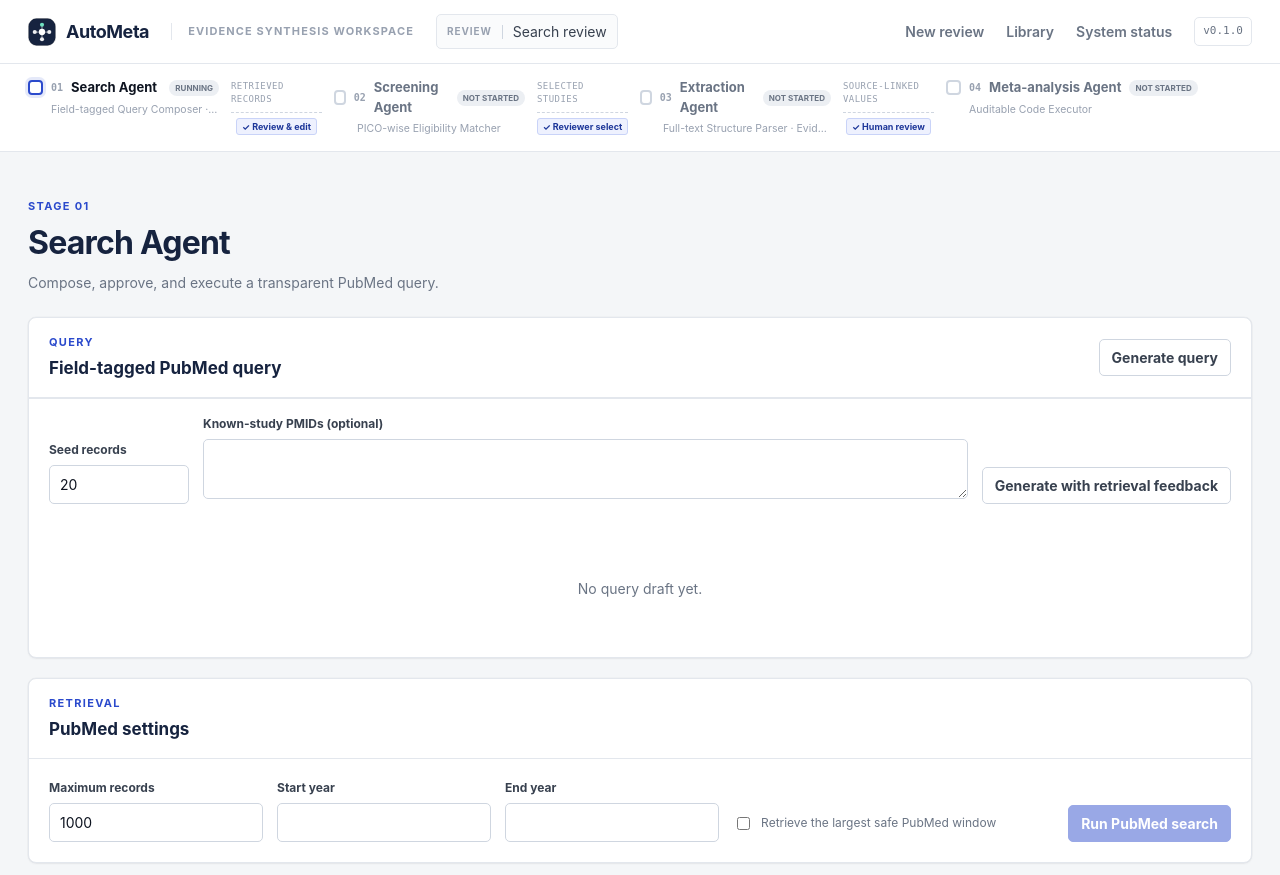
Scenario: SearchPage › starts query generation as a persistent Search job
This screenshot has width=1280, height=875.
Step 1. Click the button "Generate query" → click(1165, 358), box top-left (1099, 339), bottom-right (1231, 376)
(page scrolled)
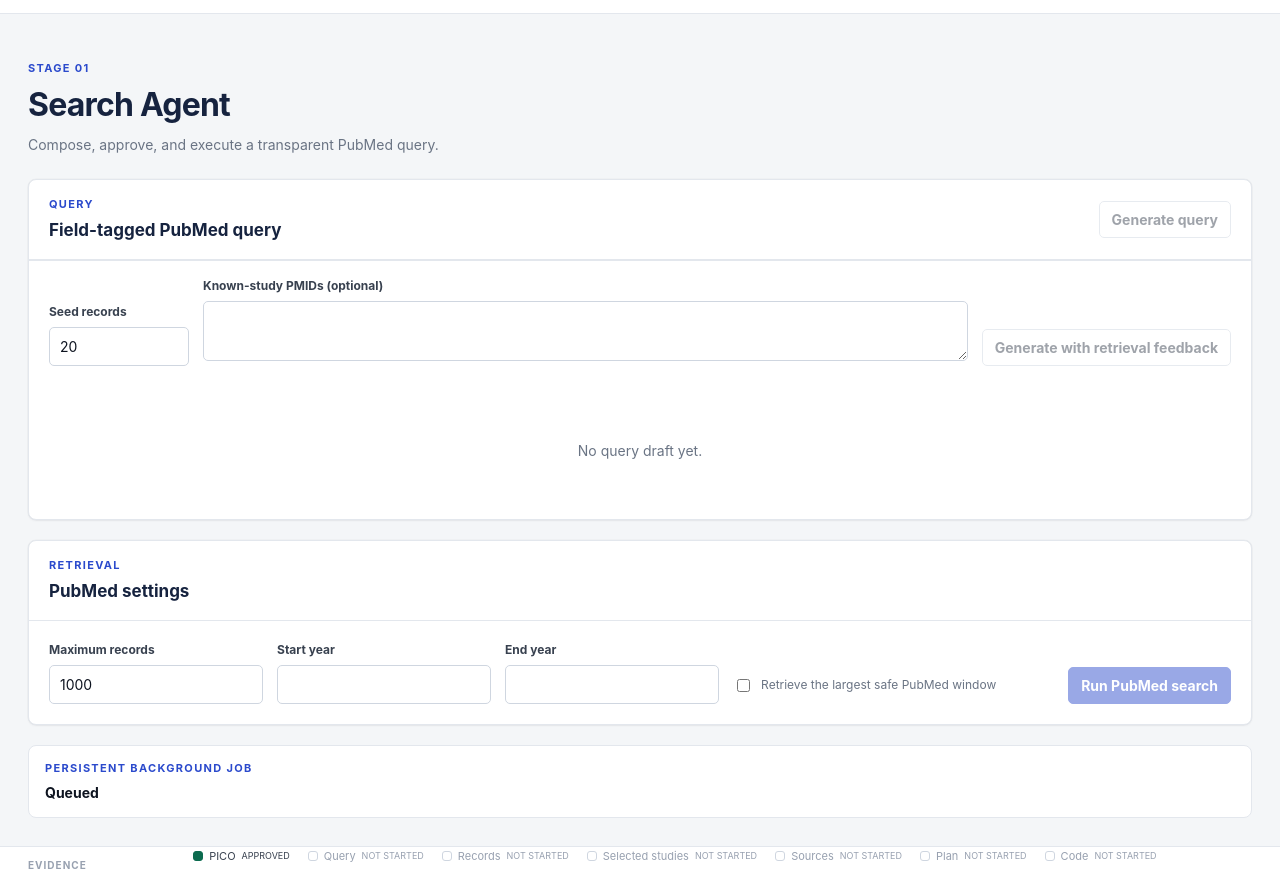
Check: the text "Queued" is shown, box top-left (45, 784), bottom-right (99, 801)
